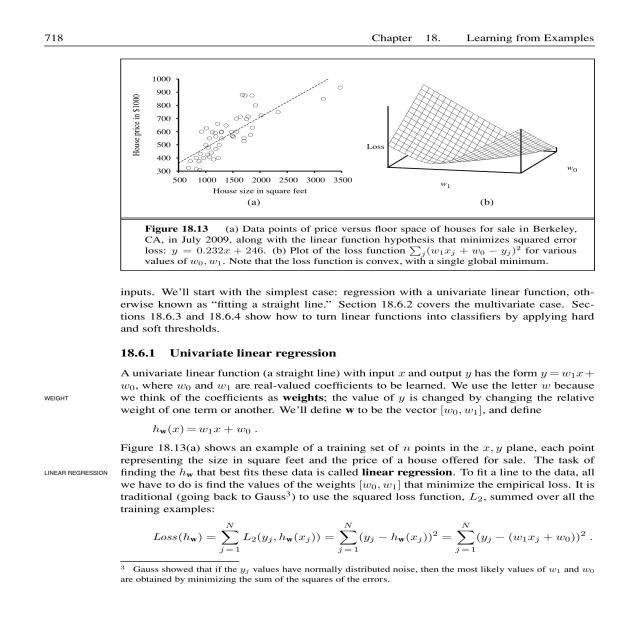diagram: (122, 57, 591, 273)
